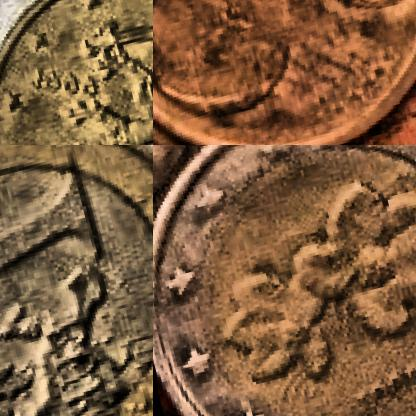coin: (153, 145, 415, 415), (0, 145, 152, 415), (153, 0, 415, 144), (0, 0, 152, 144)
